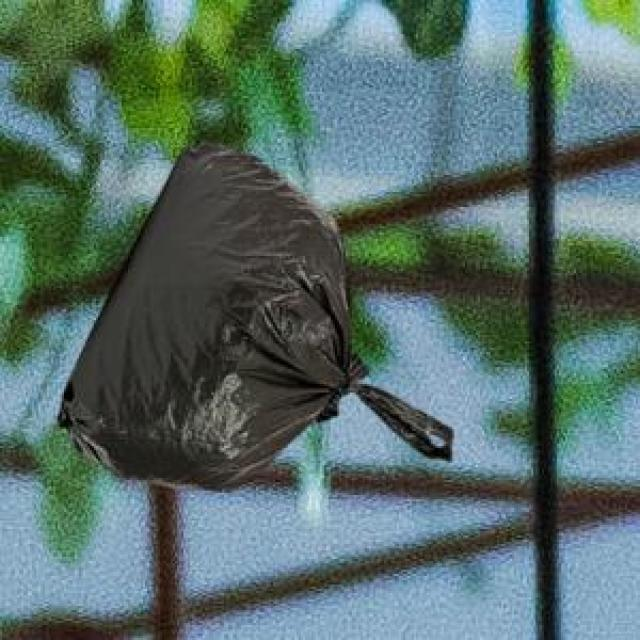waste: (59, 146, 454, 488)
